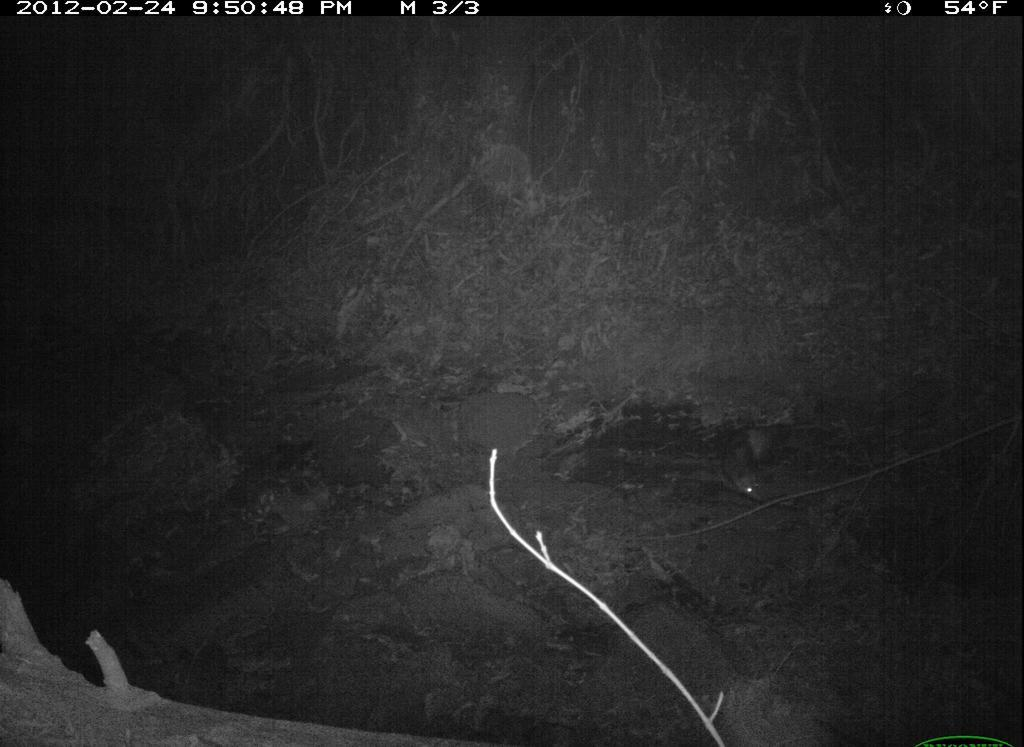opossum: (717, 413, 797, 516)
